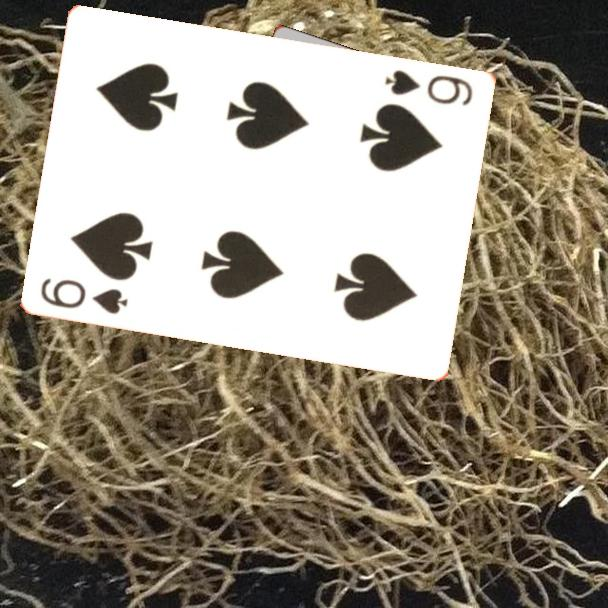s06: (37, 274, 131, 317), (381, 66, 477, 108)
